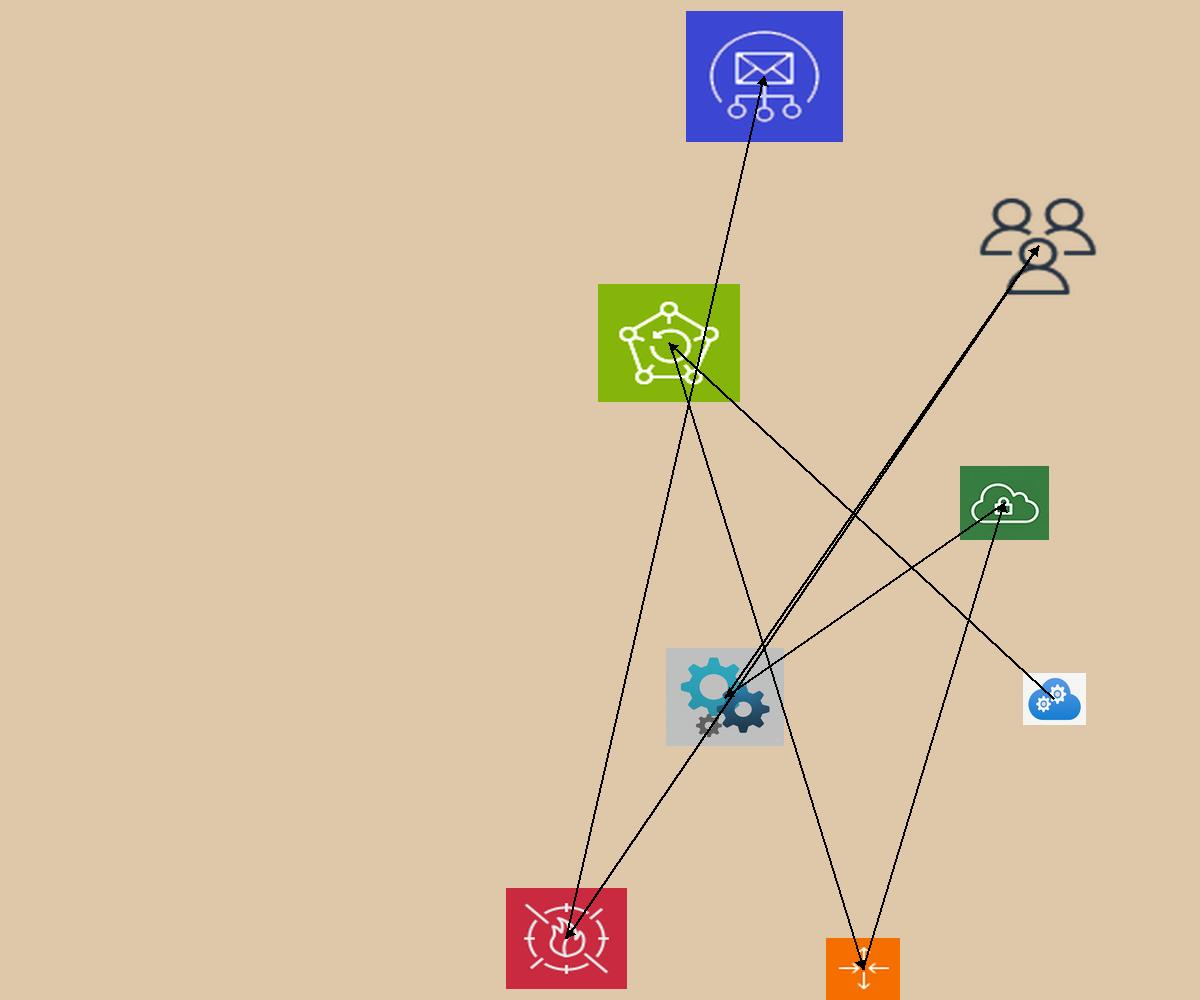AWS-Backup: (598, 284, 740, 402)
AWS-Private_vpc: (960, 466, 1049, 540)
AWS-Res_Users: (975, 194, 1101, 299)
AWS-Scaling-group: (826, 938, 900, 1000)
AWS-Simple-Email-Service: (686, 11, 843, 142)
AWS-WAF: (506, 888, 627, 989)
Azure_api: (666, 648, 784, 746)
Azure_cloud_services: (1023, 673, 1086, 725)
